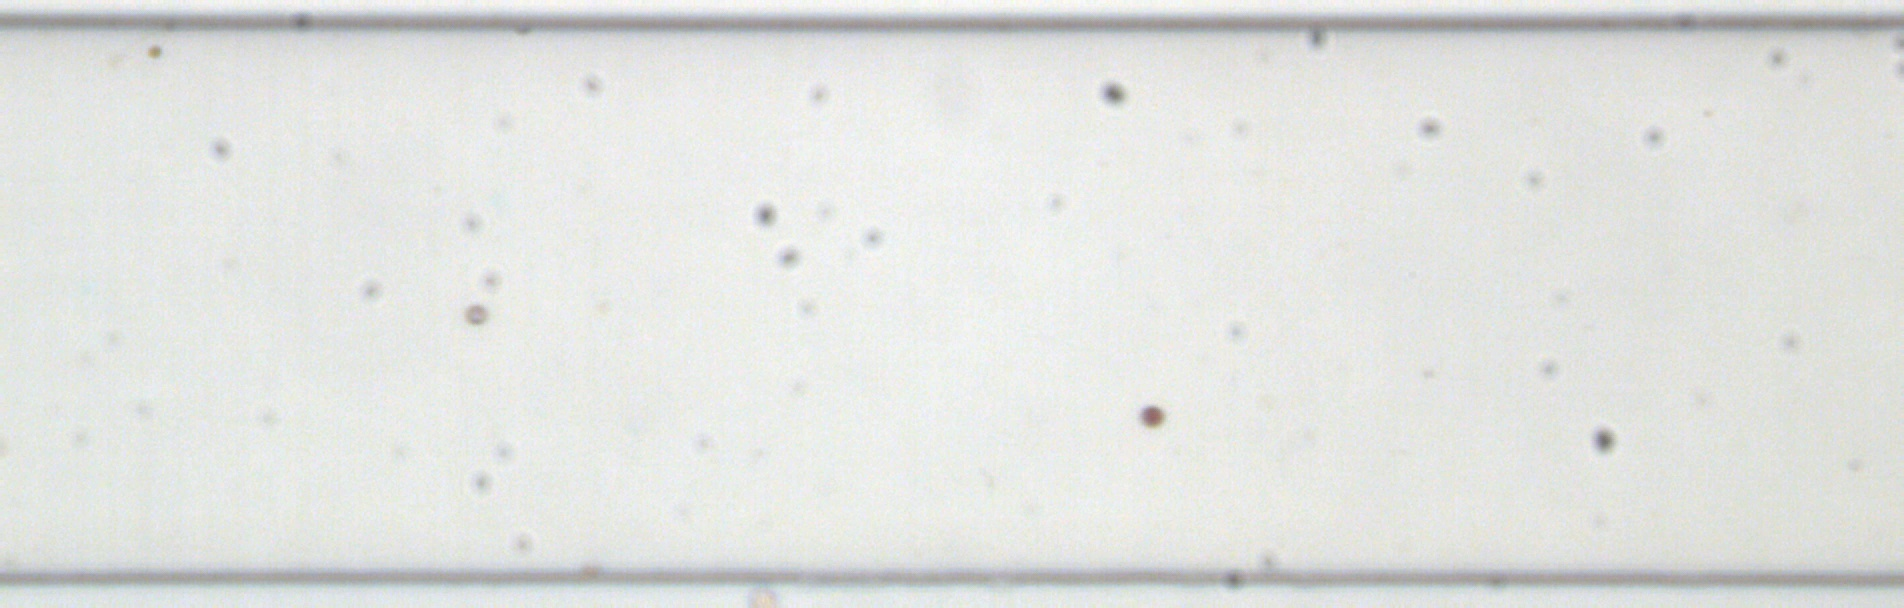Chlorella: (146, 41, 164, 61)
Porphyridium: (1138, 402, 1164, 428), (463, 303, 489, 326)
